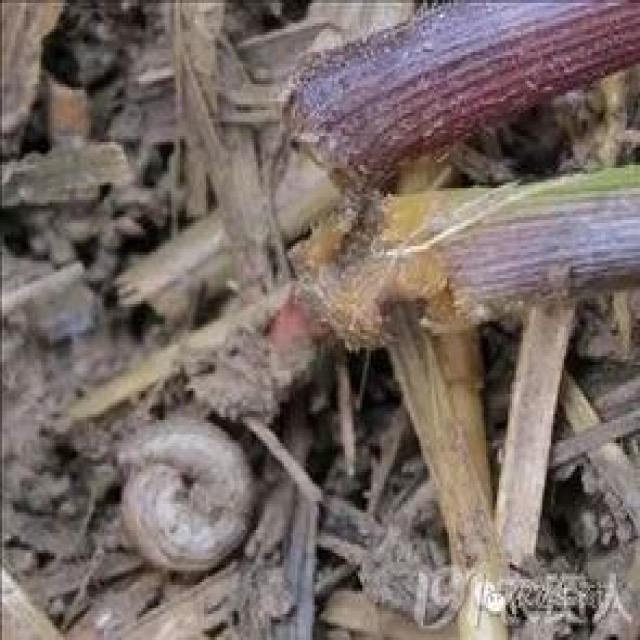BeetArmyWorm-Larva-: (110, 417, 274, 580)
